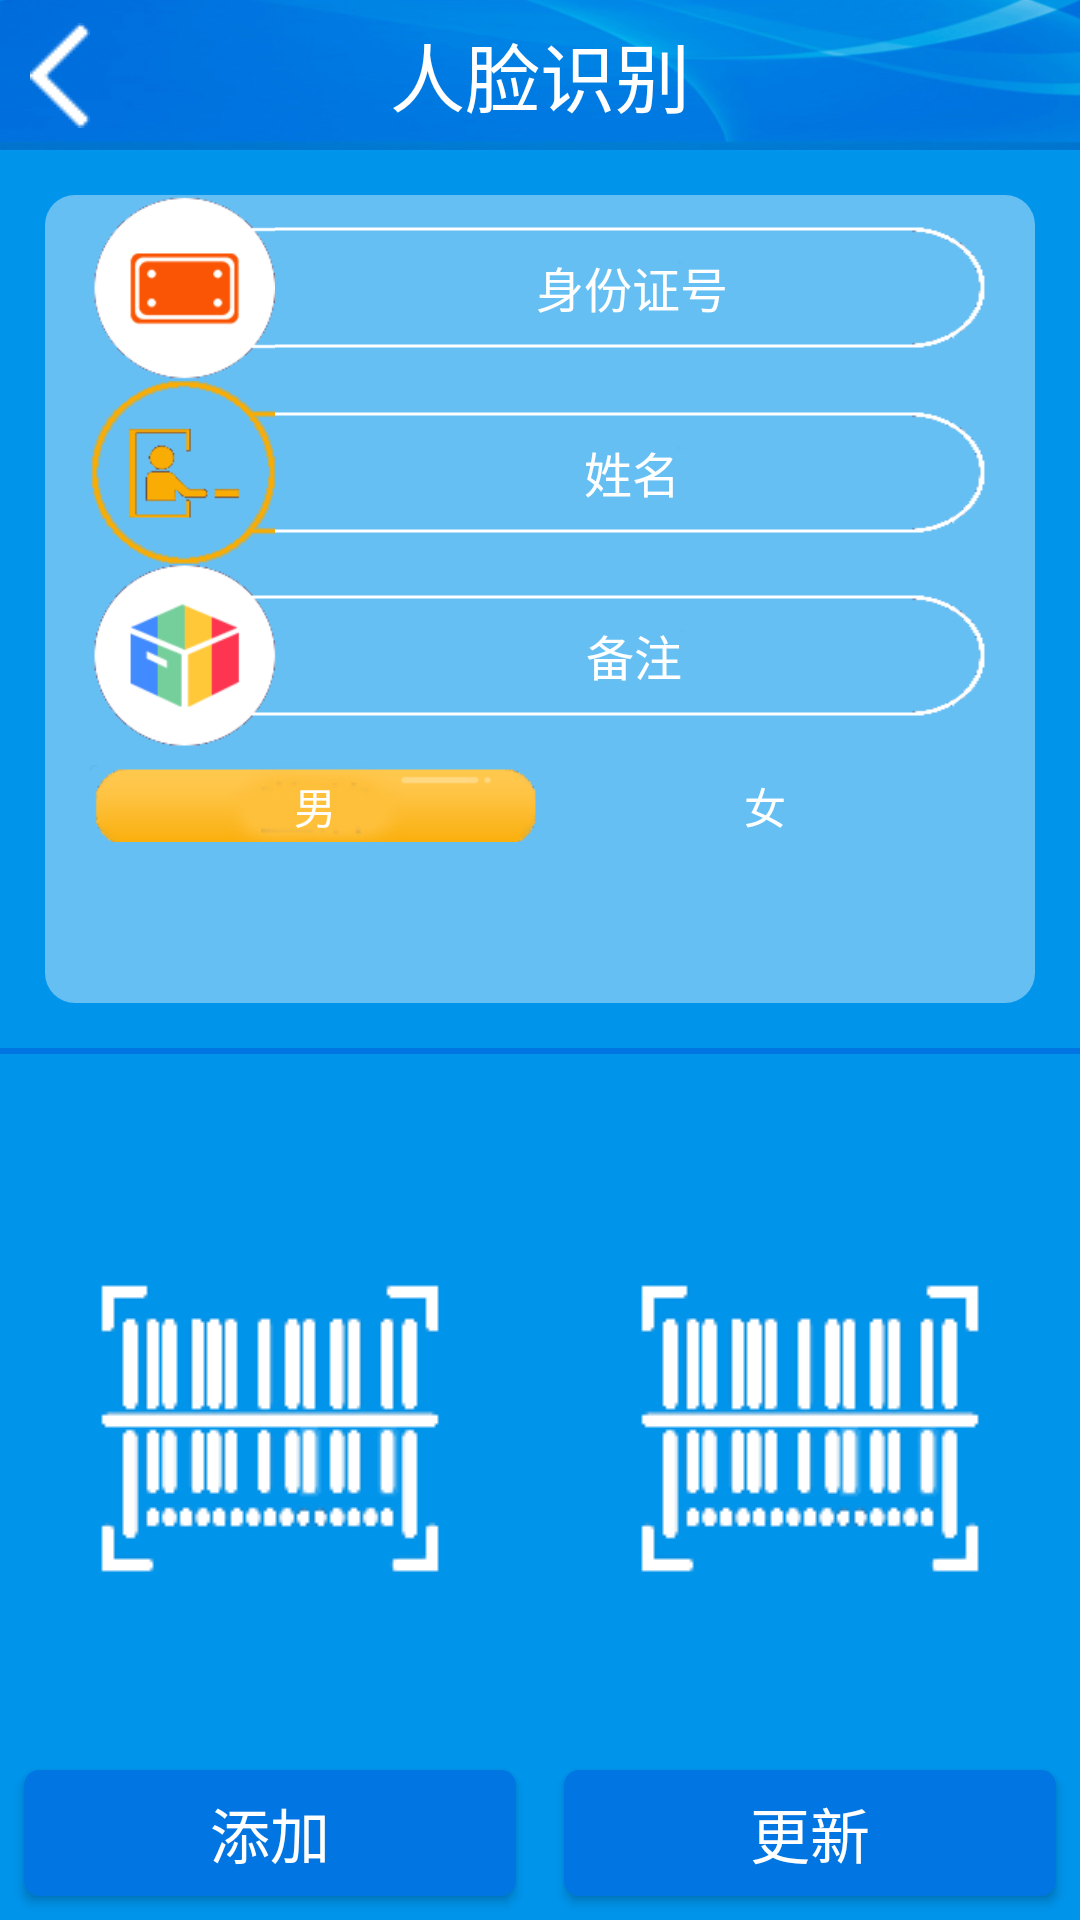

Where to tap for icons on this 1080px×1920px app screen, as (x,y):
bar back: (60,75)
